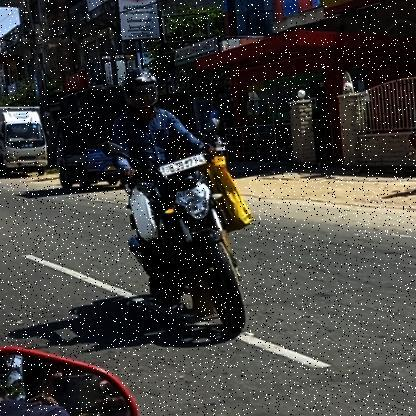motorcycle: (108, 143, 275, 368)
